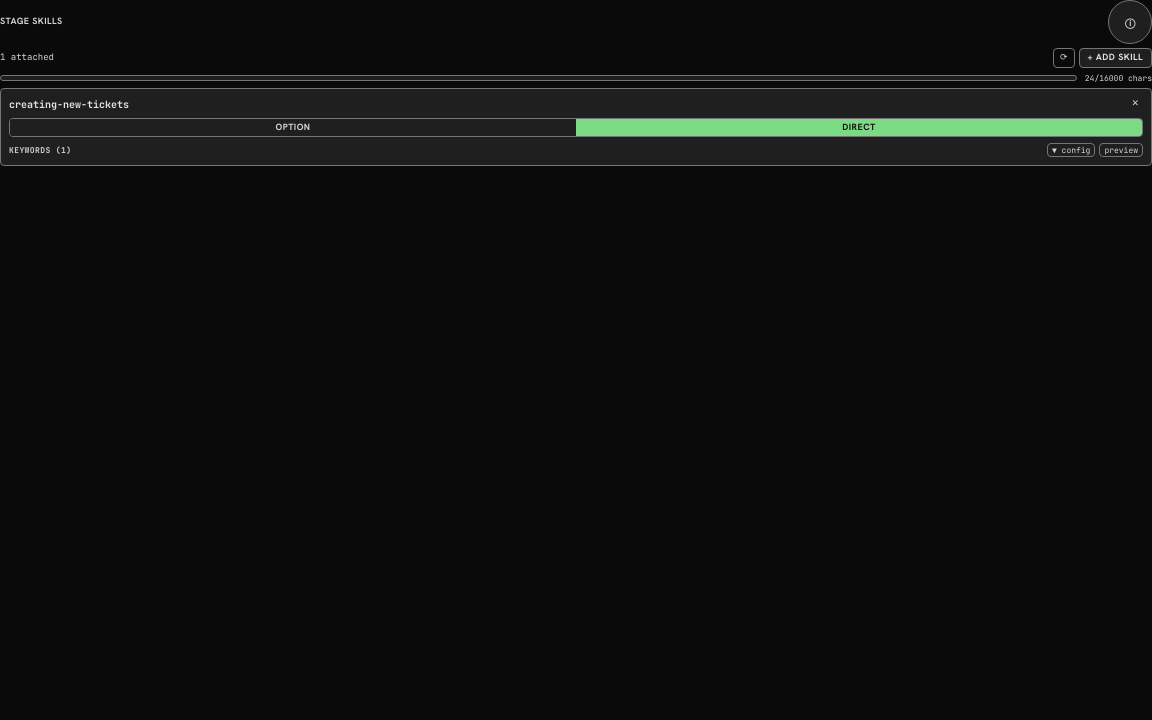
preview modal renders the resolved skill markdown
Click the button with aria-label "Preview skill creating-new-tickets" at (1121, 150), box [1099,143,1143,157]
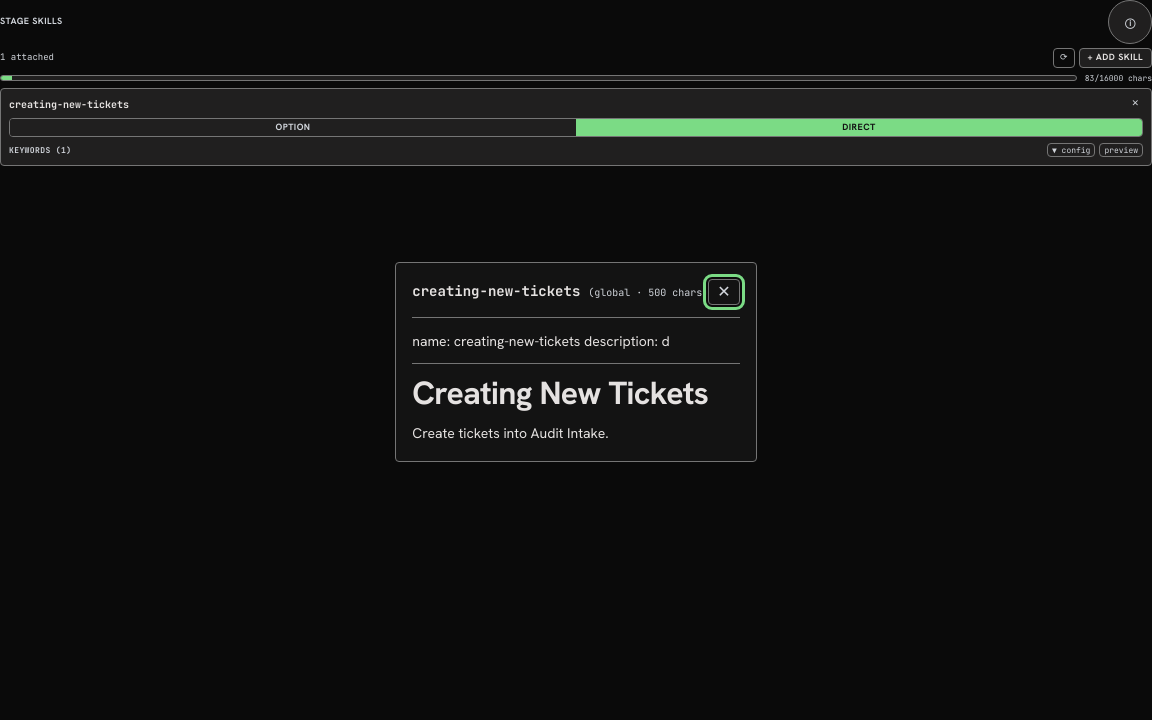
Check: the dialog is shown
Check: the dialog shows "Audit Intake", box [412,424,609,442]
Escape closes.
Press Escape in the dialog, box [395,262,757,462]
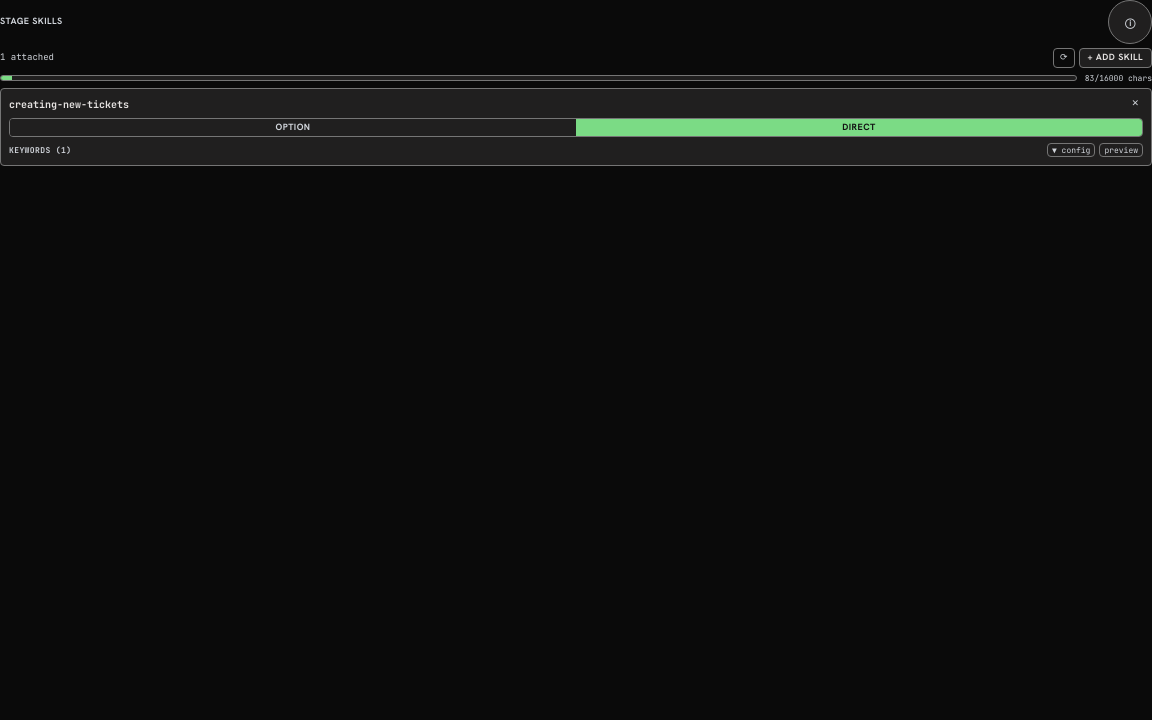
Check: the dialog is gone
